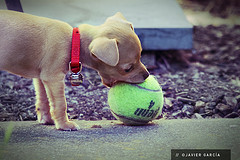tennis ball: (104, 72, 165, 127)
